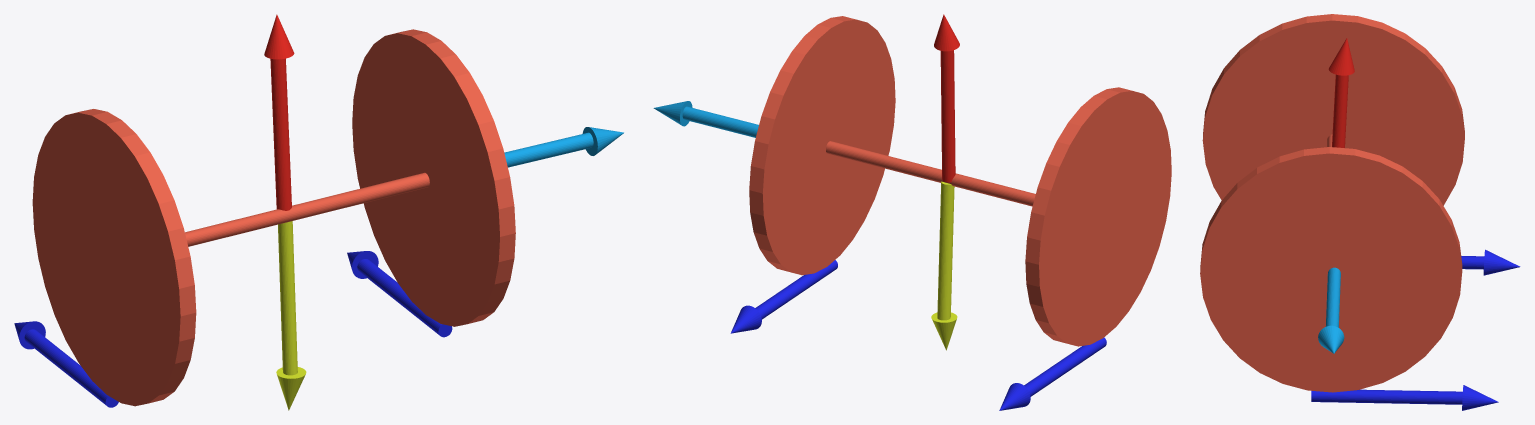
Rendered from ejeConVector.glb.
3 views of the same model, side by side, from view 1: azimuth 30°, elevation 25°; view 2: azimuth 150°, elevation 25°; view 3: azimuth 270°, elevation 25° (orthographic). The views are drawn at different scales.
Visible parts, largest first — view 1: Cylinder.001, Cylinder.004, Cylinder.002, Cylinder, Cylinder.005, Cylinder.003; view 2: Cylinder.001, Cylinder.004, Cylinder.002, Cylinder.005, Cylinder.003, Cylinder; view 3: Cylinder.001, Cylinder.003, Cylinder.004, Cylinder, Cylinder.005.
Part boxes in pixels (bbox=[...]): Cylinder.001: bbox=[32, 29, 515, 406]; Cylinder.004: bbox=[264, 14, 294, 210]; Cylinder.002: bbox=[276, 221, 306, 410]; Cylinder: bbox=[504, 127, 623, 167]; Cylinder.005: bbox=[14, 321, 118, 407]; Cylinder.003: bbox=[347, 251, 452, 337]; Cylinder.001: bbox=[749, 16, 1171, 346]; Cylinder.004: bbox=[934, 14, 959, 182]; Cylinder.002: bbox=[931, 181, 957, 350]; Cylinder.005: bbox=[999, 337, 1106, 410]; Cylinder.003: bbox=[730, 260, 837, 333]; Cylinder: bbox=[653, 101, 758, 137]; Cylinder.001: bbox=[1200, 14, 1464, 392]; Cylinder.003: bbox=[1311, 385, 1498, 410]; Cylinder.004: bbox=[1328, 38, 1354, 147]; Cylinder: bbox=[1318, 267, 1344, 353]; Cylinder.005: bbox=[1461, 249, 1520, 275].
Size of the model in its own units: 7.98 by 5.76 by 4.88.
